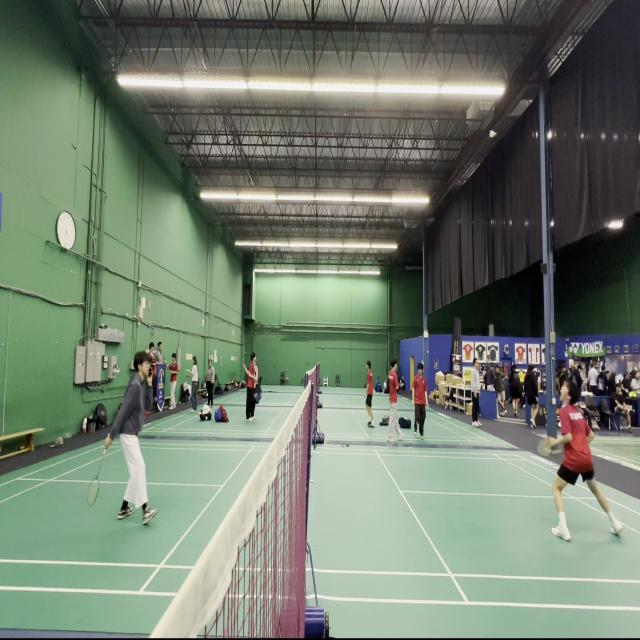shuttlecock: (489, 130, 497, 138)
